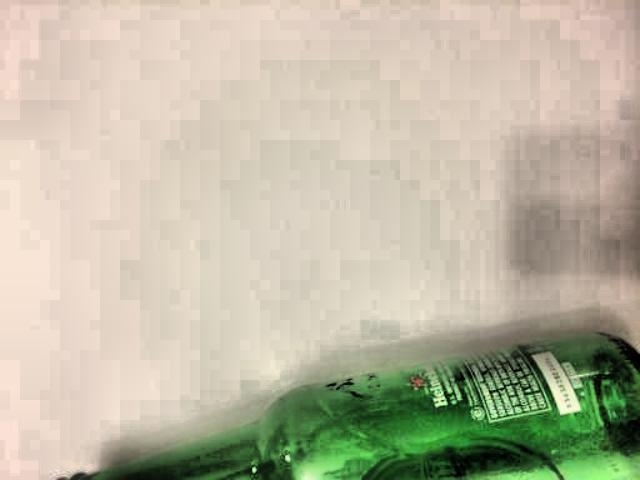Bottles: (28, 326, 640, 480)
